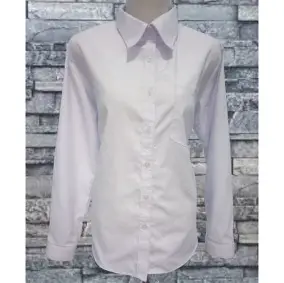kemeja_benar: (46, 16, 229, 262)
